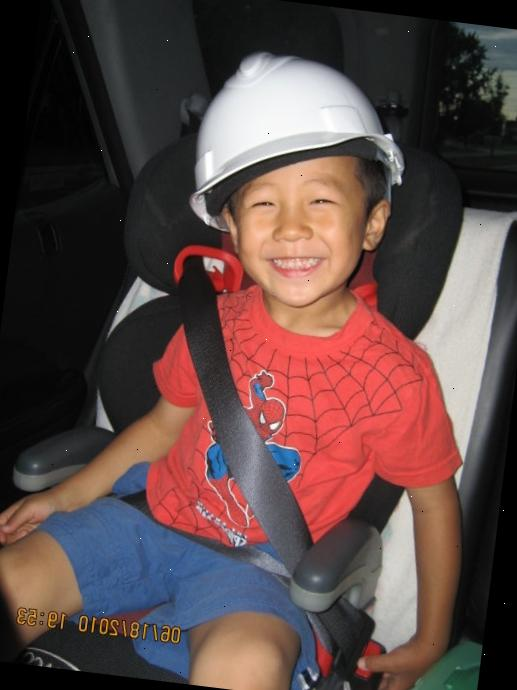helmet: (175, 21, 433, 225)
wear: (128, 280, 442, 571)
